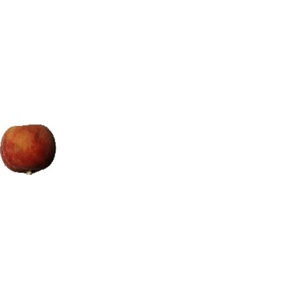pêssego: (1, 125, 57, 176)
